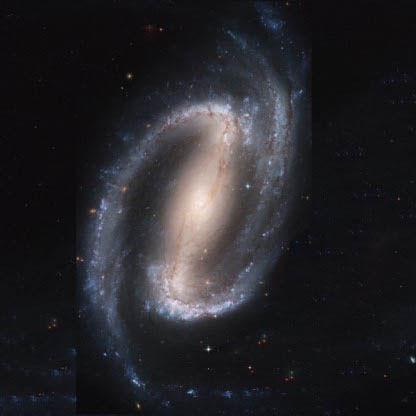NGC 1300: (76, 4, 312, 414)
